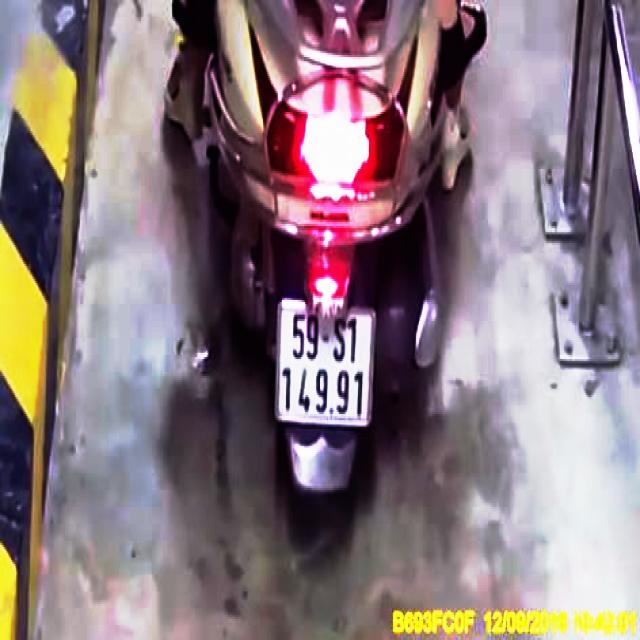license_plate: (279, 305, 373, 429)
